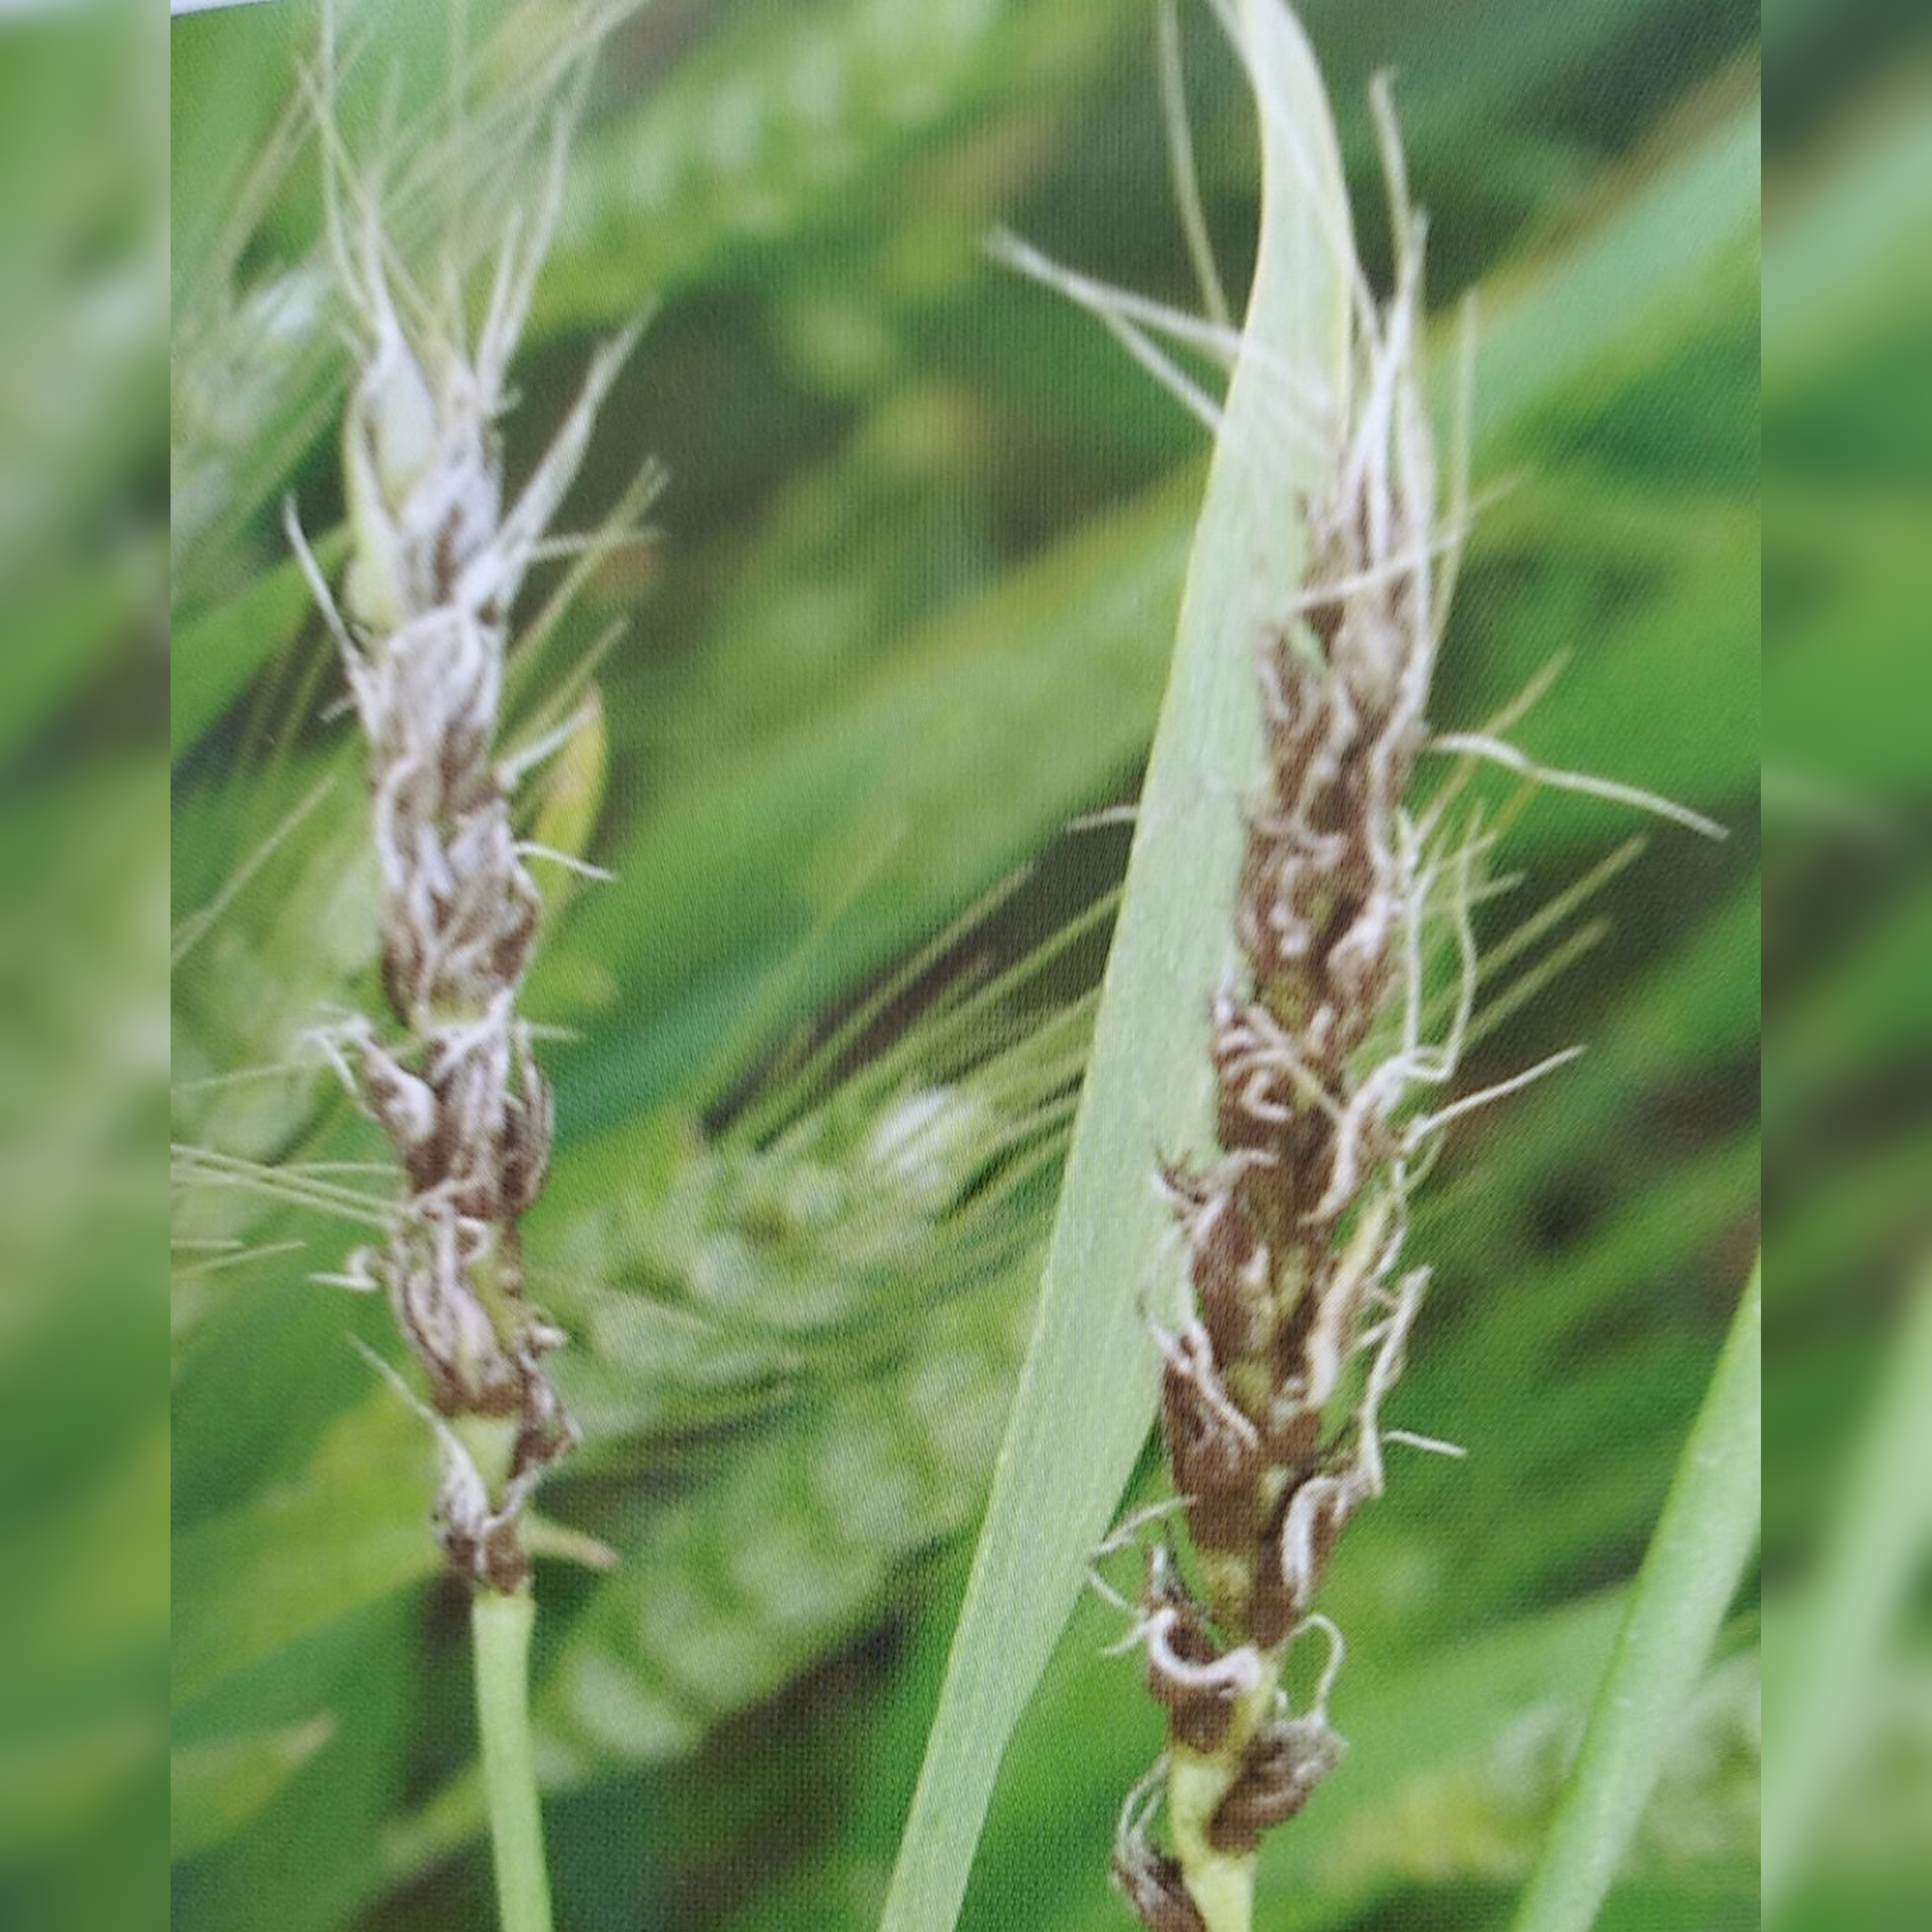Wheat Loose Smut: (1093, 361, 1530, 1803)
